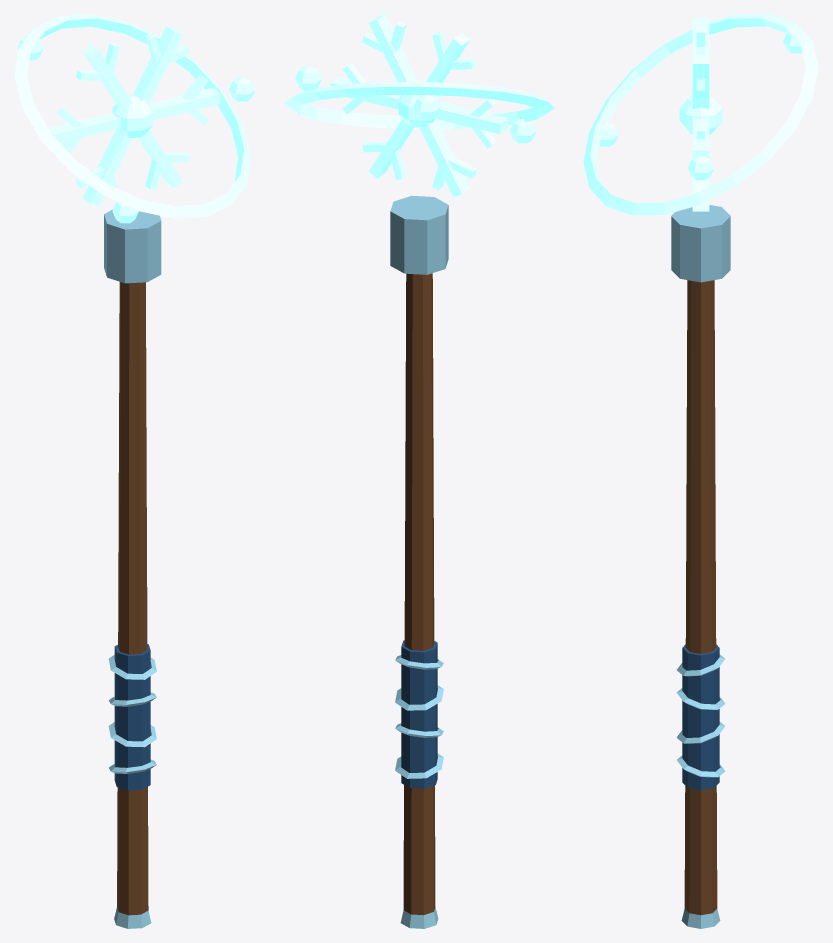
Rendered from weapon_staff_glacier_v01.glb.
3 renders of one model, left to right at view 1: azimuth 30°, elevation 25°; view 2: azimuth 150°, elevation 25°; view 3: azimuth 270°, elevation 25°, orthographic.
Visible parts, largest first — view 1: weapon_staff_glacier; view 2: weapon_staff_glacier; view 3: weapon_staff_glacier.
Boxes of the visible parts, <box> form: weapon_staff_glacier: <box>14,14,255,928</box>; weapon_staff_glacier: <box>284,14,554,928</box>; weapon_staff_glacier: <box>583,14,818,928</box>.
Size of the model in its own units: 0.3575 by 1.31 by 0.3159.
